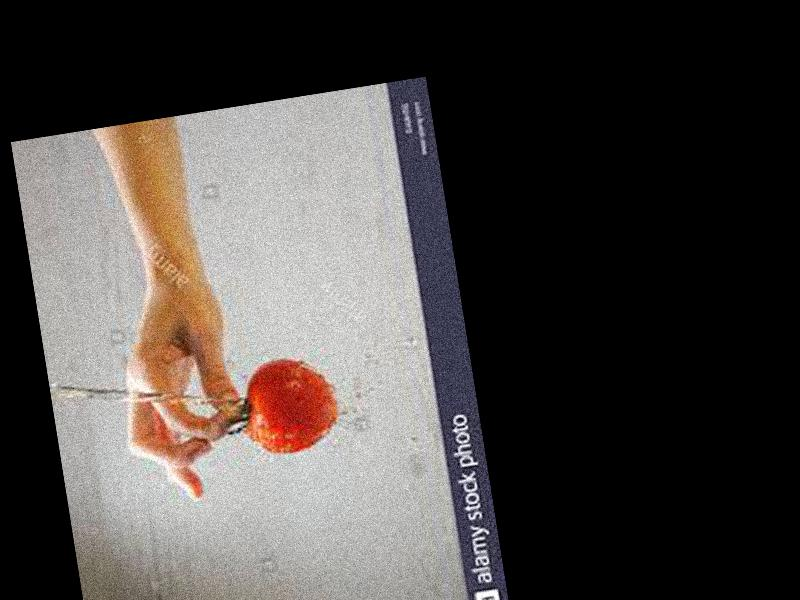Tomato: (238, 349, 344, 456)
